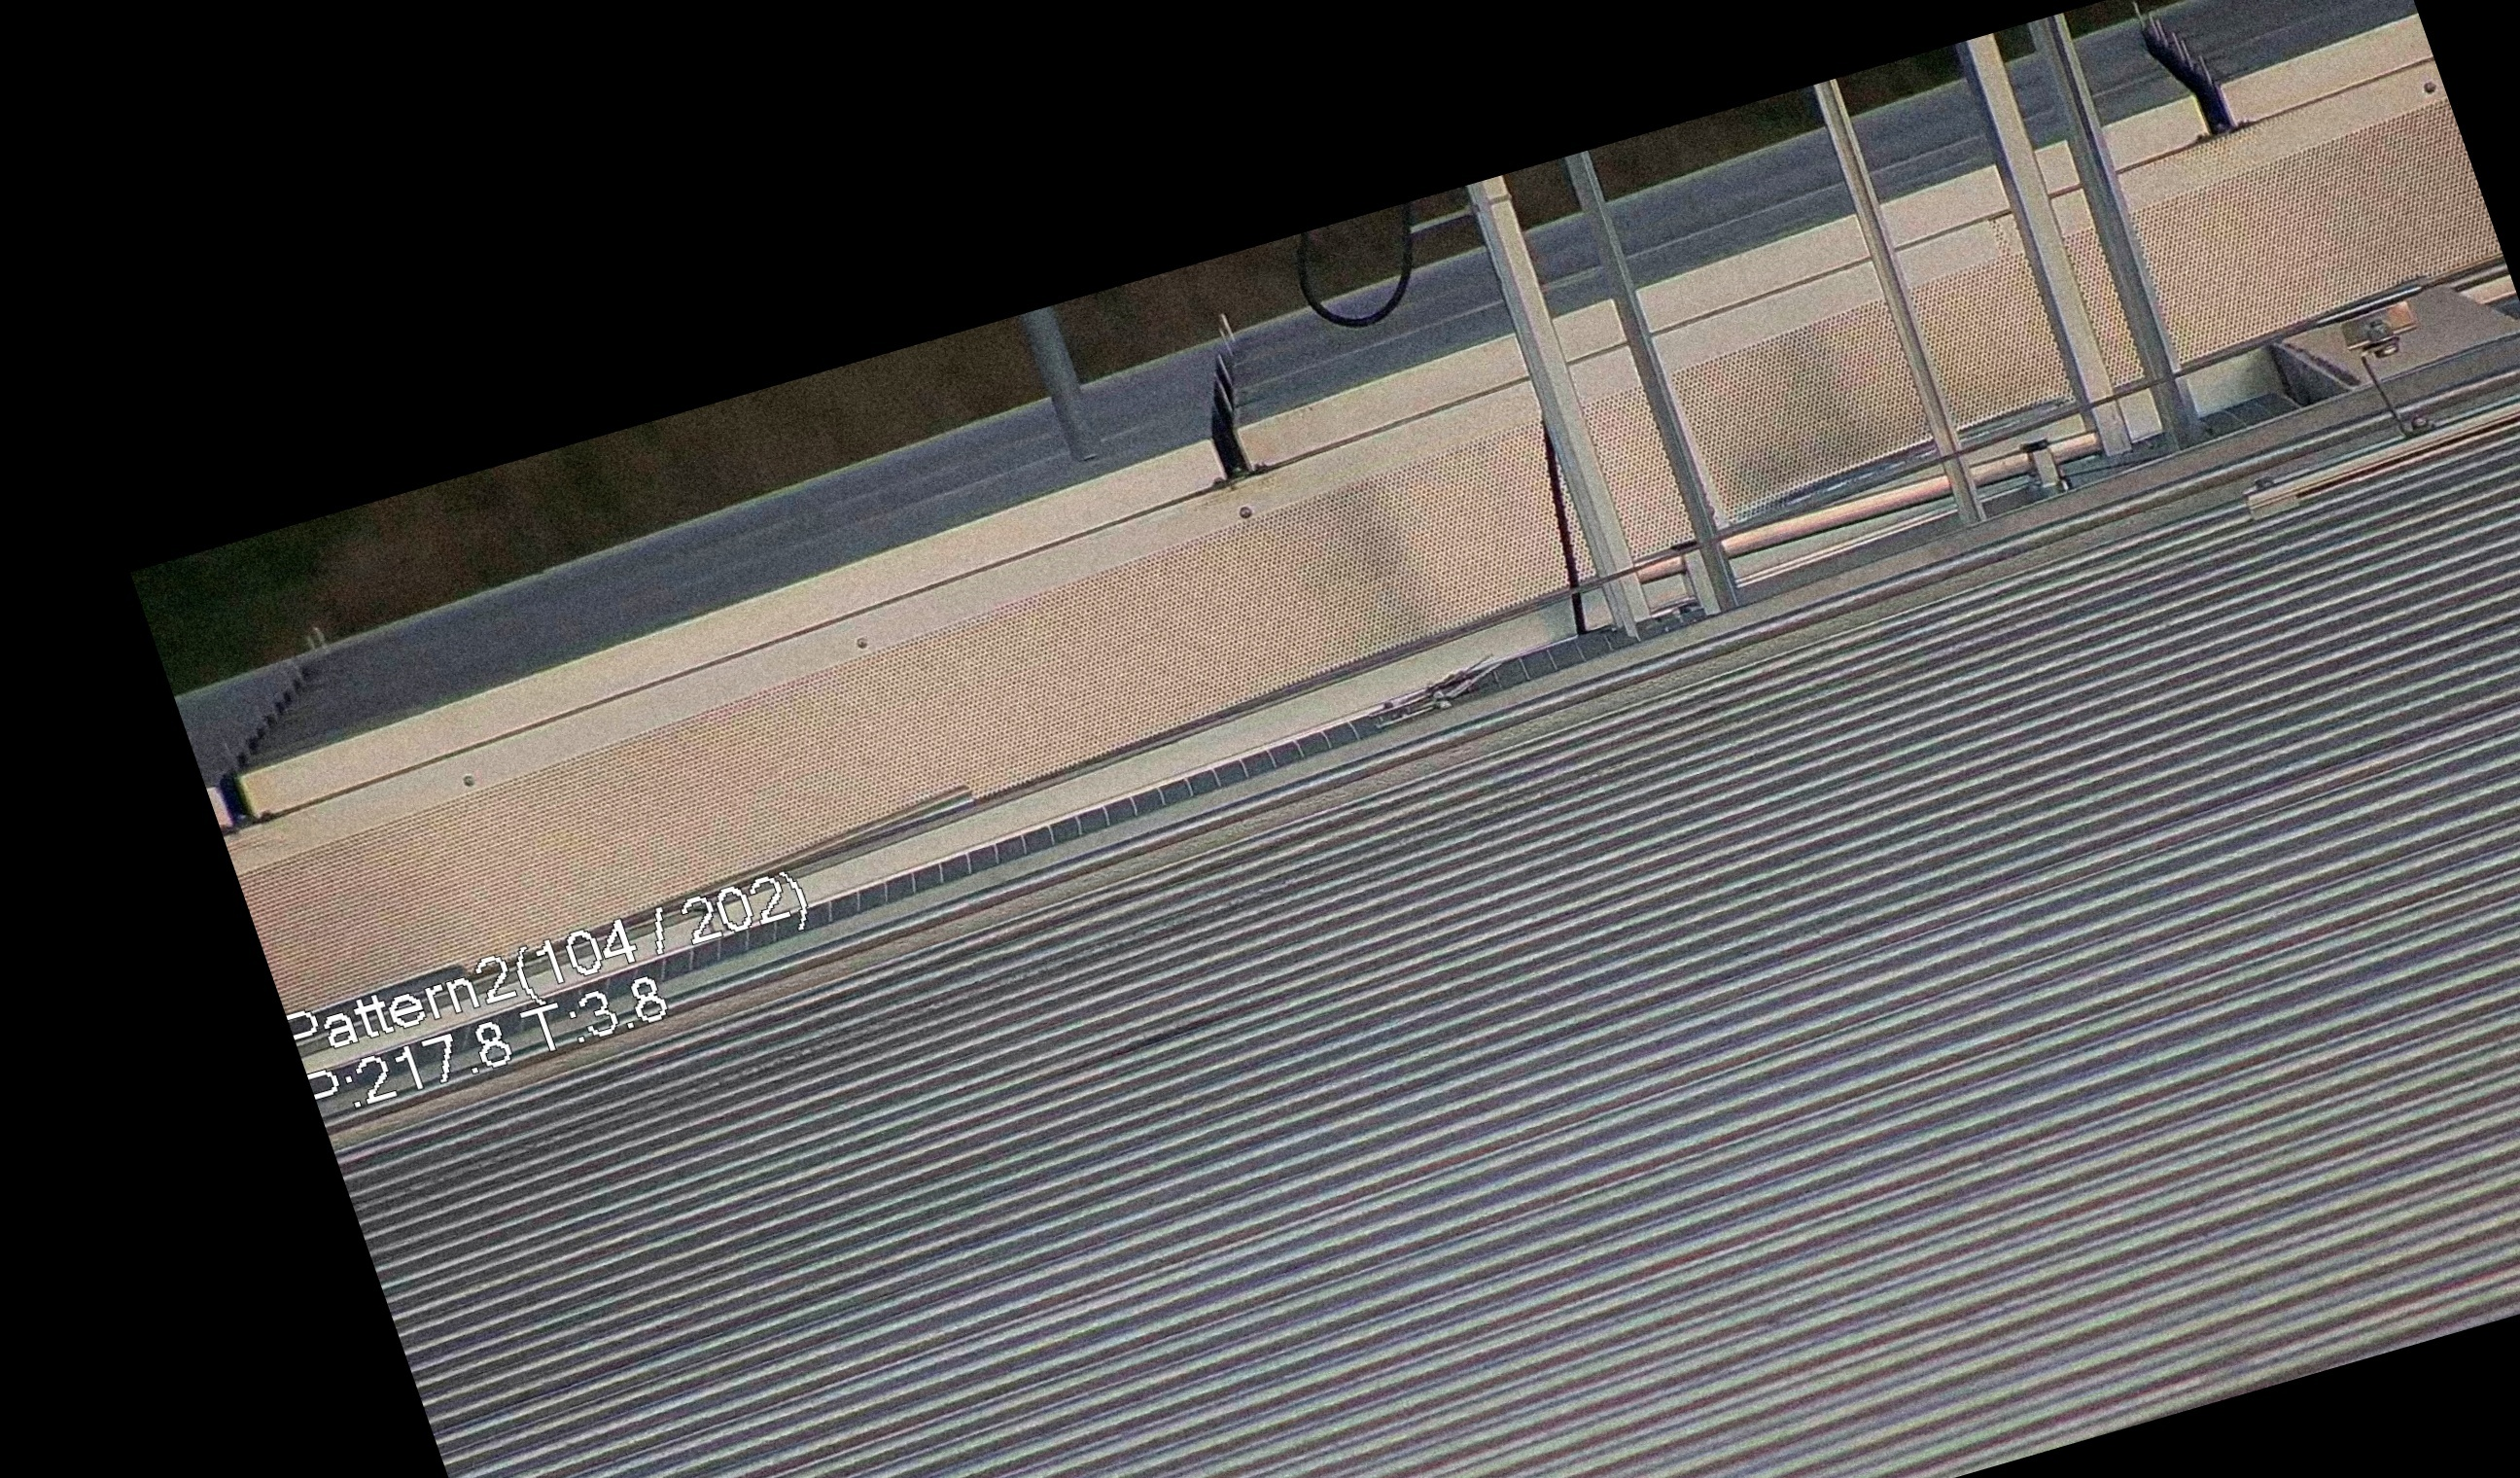Other: (2119, 0, 2265, 155)
